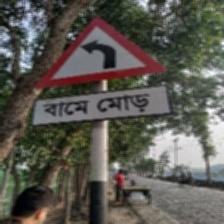Left-Turn: (31, 16, 171, 129)
